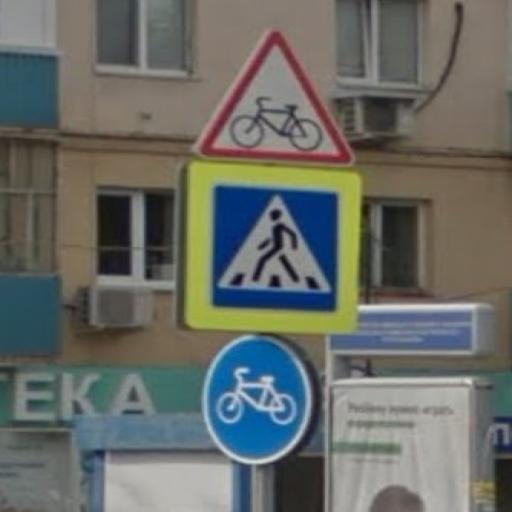traffic_sign: (185, 161, 366, 336), (196, 28, 357, 165), (204, 334, 319, 466)
